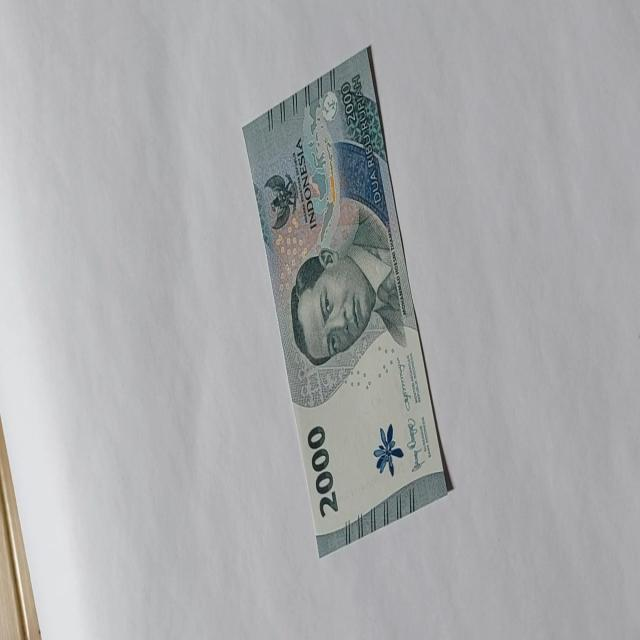dua ribu rupiah: (241, 45, 451, 558), (289, 204, 406, 368)
